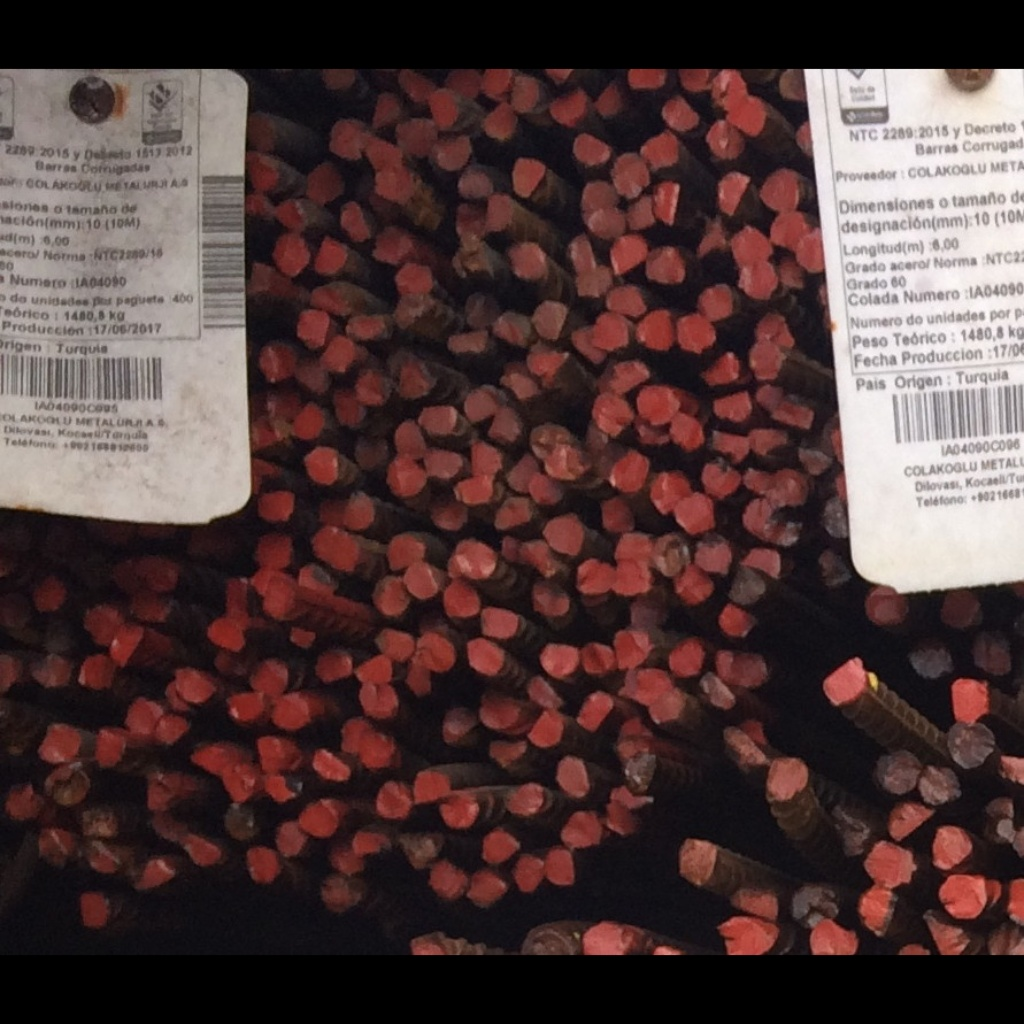dipstick: (938, 872, 986, 921), (861, 841, 913, 886), (946, 722, 996, 768), (721, 918, 779, 955), (822, 658, 866, 703), (930, 825, 973, 869), (47, 763, 90, 806), (765, 758, 807, 802), (717, 650, 768, 686), (876, 750, 919, 792), (581, 921, 634, 955), (678, 837, 718, 882), (859, 889, 897, 936), (611, 449, 650, 494), (833, 806, 868, 856), (450, 540, 496, 578), (950, 676, 988, 721), (759, 168, 798, 211), (792, 886, 835, 925), (938, 589, 982, 627), (920, 764, 960, 805), (193, 742, 251, 770), (887, 804, 932, 840), (810, 920, 856, 955), (730, 225, 771, 264), (5, 782, 43, 824), (544, 514, 582, 555), (319, 876, 360, 914), (273, 234, 310, 276), (651, 533, 688, 575), (973, 633, 1010, 675), (621, 672, 671, 703), (375, 168, 419, 203), (768, 467, 807, 506), (703, 463, 742, 502), (866, 586, 905, 625), (725, 96, 765, 134), (925, 919, 967, 955), (675, 314, 714, 352), (675, 495, 714, 533), (651, 474, 689, 513), (466, 637, 505, 675), (417, 633, 456, 671), (258, 342, 295, 382), (40, 724, 80, 761), (613, 156, 648, 198), (909, 643, 951, 678), (306, 163, 343, 202), (768, 213, 807, 250), (36, 826, 73, 865), (724, 730, 763, 767), (311, 280, 351, 316), (738, 262, 778, 298), (674, 567, 714, 603), (357, 682, 398, 717), (244, 109, 278, 151), (520, 927, 571, 955), (545, 448, 591, 479), (637, 389, 680, 422), (399, 832, 442, 865), (397, 118, 436, 154), (327, 120, 362, 160), (395, 363, 435, 398), (604, 362, 647, 394), (507, 241, 544, 278), (272, 691, 309, 728), (660, 95, 698, 131), (637, 311, 673, 349), (468, 871, 506, 907), (481, 829, 519, 865), (389, 456, 424, 495), (559, 812, 598, 847), (732, 890, 779, 919), (528, 352, 568, 386), (533, 299, 566, 340), (670, 637, 703, 678), (718, 171, 749, 214), (707, 122, 743, 159), (576, 693, 612, 730), (614, 633, 652, 668), (541, 643, 579, 678), (429, 860, 467, 895), (244, 154, 278, 193), (393, 294, 432, 328), (376, 781, 410, 820), (313, 649, 353, 682), (248, 660, 288, 693), (131, 591, 178, 619), (647, 247, 683, 283), (694, 534, 729, 571), (372, 228, 410, 262), (527, 709, 561, 747), (711, 70, 744, 109), (175, 668, 214, 701), (513, 157, 544, 198), (614, 560, 649, 596), (443, 582, 479, 617), (756, 311, 794, 344), (520, 540, 553, 578), (491, 496, 529, 529), (727, 570, 765, 603), (480, 607, 518, 640), (253, 535, 291, 568), (295, 309, 327, 348), (375, 578, 407, 617), (479, 697, 519, 728), (135, 859, 175, 890), (630, 589, 665, 624), (435, 136, 471, 170), (611, 236, 645, 272), (702, 352, 738, 386), (576, 560, 612, 594), (314, 237, 347, 274), (126, 697, 159, 734), (711, 430, 749, 462), (386, 535, 424, 567), (443, 709, 481, 741), (606, 285, 645, 316), (33, 655, 72, 686), (557, 756, 588, 795), (305, 449, 339, 484), (595, 396, 630, 430), (302, 802, 337, 836), (245, 847, 280, 881), (341, 201, 370, 242), (355, 371, 391, 404), (34, 575, 67, 611), (573, 134, 610, 166), (144, 561, 181, 593), (41, 619, 78, 651), (413, 771, 450, 803), (441, 797, 478, 829), (529, 424, 567, 455), (206, 619, 244, 650), (486, 194, 516, 233), (80, 807, 119, 837), (86, 609, 120, 643), (607, 806, 641, 840), (352, 439, 387, 472), (494, 311, 530, 343), (543, 850, 575, 886), (750, 343, 781, 380), (395, 263, 433, 293), (418, 404, 457, 433), (256, 737, 285, 776), (464, 293, 497, 327), (702, 675, 735, 709), (224, 806, 257, 840), (276, 198, 308, 233), (641, 133, 676, 165), (652, 182, 680, 222), (596, 314, 628, 349), (505, 456, 537, 491), (749, 428, 789, 456), (603, 498, 635, 533), (575, 266, 611, 297), (699, 282, 730, 318), (375, 628, 411, 659), (652, 689, 683, 725), (394, 422, 424, 459), (257, 491, 294, 521), (227, 691, 264, 721), (514, 855, 544, 892), (774, 402, 815, 429), (433, 495, 466, 528), (549, 88, 583, 120), (672, 416, 703, 451), (224, 771, 255, 806), (86, 842, 121, 873), (448, 328, 488, 355), (712, 393, 752, 420), (311, 750, 347, 780), (743, 547, 780, 576), (499, 372, 540, 398), (250, 419, 288, 447), (345, 491, 373, 529), (820, 550, 848, 588), (112, 626, 144, 659), (80, 653, 112, 686), (453, 205, 484, 239), (491, 407, 522, 441), (425, 448, 459, 479), (534, 582, 568, 613), (328, 843, 363, 873), (720, 606, 756, 635), (506, 782, 542, 811), (742, 501, 768, 541), (568, 235, 596, 272), (328, 534, 356, 571), (182, 836, 219, 864), (482, 105, 514, 137), (334, 390, 366, 422), (405, 565, 436, 598), (339, 721, 372, 752), (362, 735, 393, 768), (624, 755, 657, 786), (978, 813, 1011, 844), (429, 93, 459, 127), (580, 181, 614, 211), (367, 139, 402, 168), (453, 476, 489, 504), (798, 231, 822, 273), (766, 519, 802, 547), (82, 891, 109, 928), (458, 168, 490, 199), (321, 339, 352, 371), (581, 642, 612, 674), (528, 675, 559, 707), (595, 81, 621, 119), (96, 732, 125, 766), (397, 70, 432, 98), (590, 208, 625, 236), (452, 239, 479, 275), (357, 656, 393, 683), (345, 316, 387, 339), (465, 390, 496, 421), (355, 830, 393, 855), (613, 534, 648, 561), (262, 778, 297, 805), (265, 580, 291, 616), (471, 444, 501, 475), (309, 527, 339, 558), (570, 325, 598, 358), (276, 822, 302, 857), (530, 476, 566, 501), (299, 564, 329, 594), (244, 191, 276, 219), (149, 774, 176, 807), (797, 449, 832, 474), (697, 220, 726, 250), (245, 263, 273, 294), (624, 70, 665, 91), (824, 498, 845, 539), (297, 365, 327, 393), (480, 70, 511, 97), (226, 579, 248, 617), (488, 742, 526, 764), (155, 718, 187, 744), (152, 818, 188, 841), (511, 77, 536, 110), (296, 404, 321, 437), (607, 789, 655, 806), (779, 259, 802, 294), (213, 652, 248, 675), (628, 197, 651, 231), (448, 70, 479, 95), (373, 93, 397, 125), (743, 466, 768, 496), (405, 663, 428, 695), (318, 495, 343, 524), (251, 568, 280, 593), (320, 70, 355, 90), (616, 736, 649, 757), (680, 70, 710, 91), (637, 424, 668, 444), (757, 383, 781, 407), (288, 624, 316, 644), (984, 796, 1012, 815), (745, 718, 763, 744)
